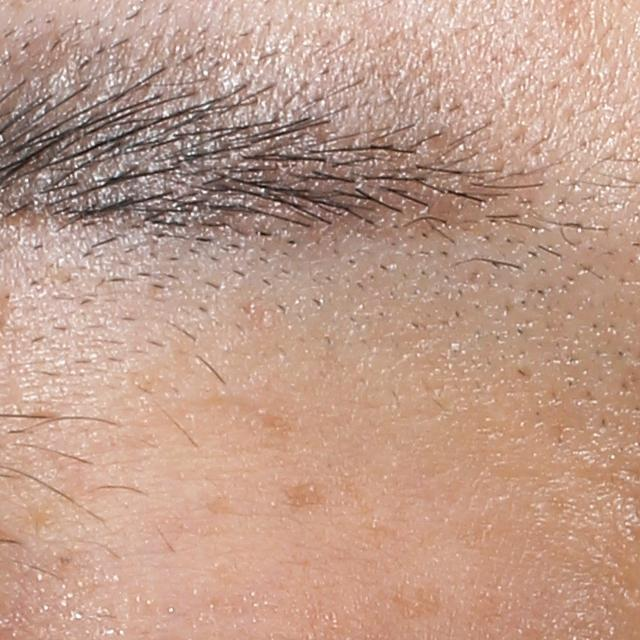melasma: (275, 478, 336, 512)
